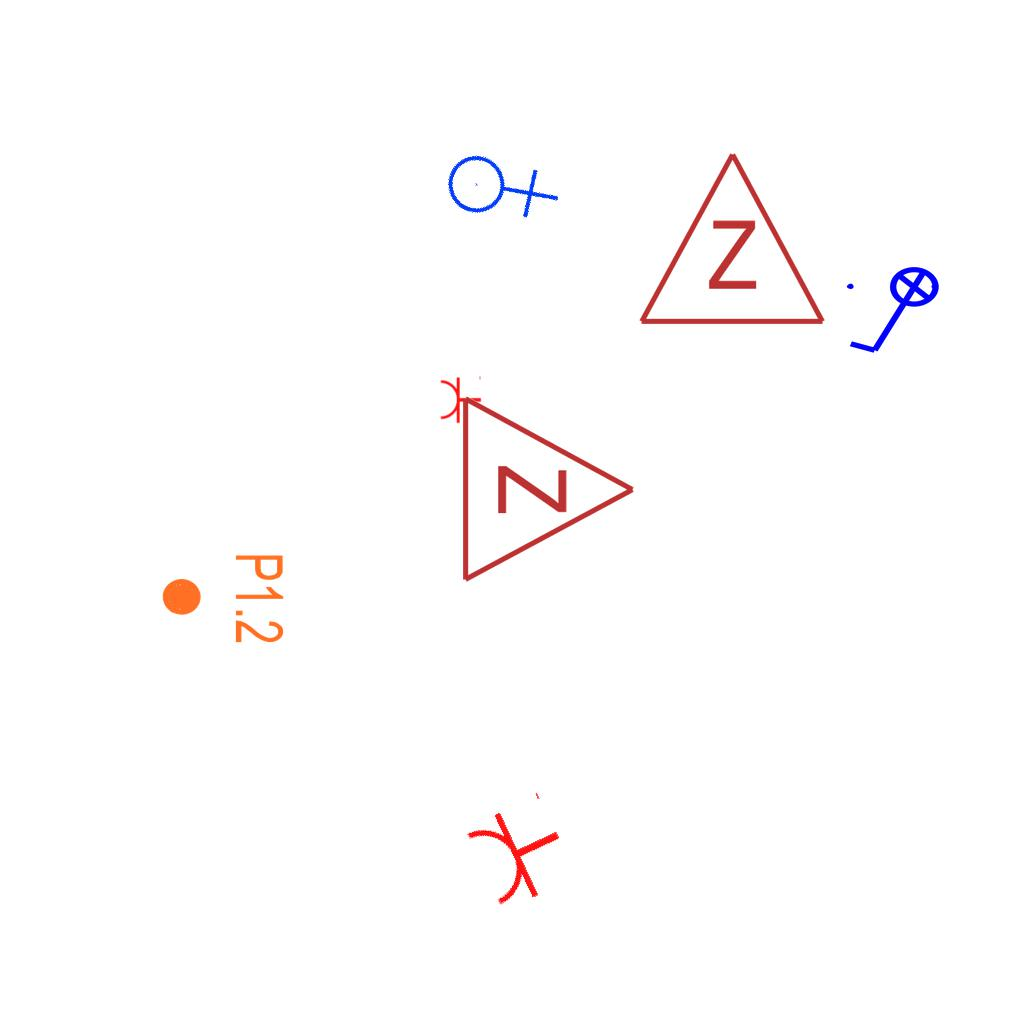Ausschalter_beleuchtet: (841, 265, 953, 361)
Downlight_LED_Einbauleuchten_Flur: (159, 552, 287, 645)
Elektroanschluss_allgemein_230V_Geraeteanschlussdose_230V: (430, 116, 565, 252)
Schukosteckdose_einfach: (458, 787, 581, 915), (439, 374, 482, 424)
Zimmersignalleuchte: (632, 139, 828, 339), (448, 389, 648, 585)
